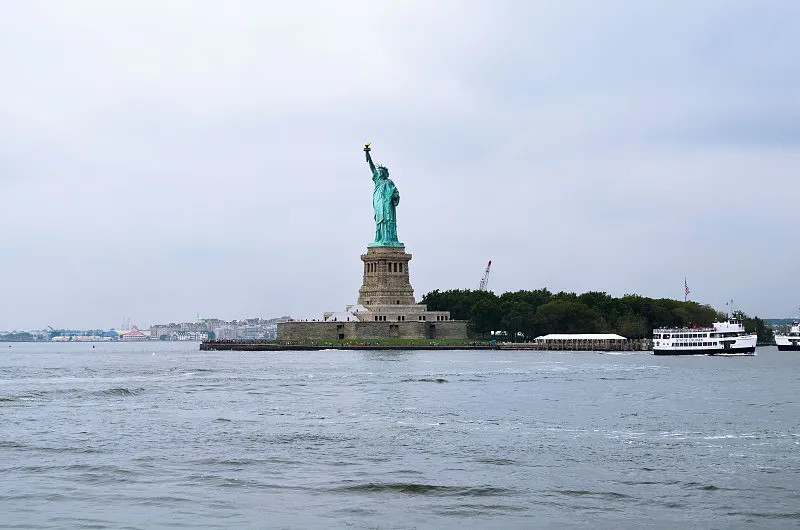SL: (356, 142, 415, 305)
